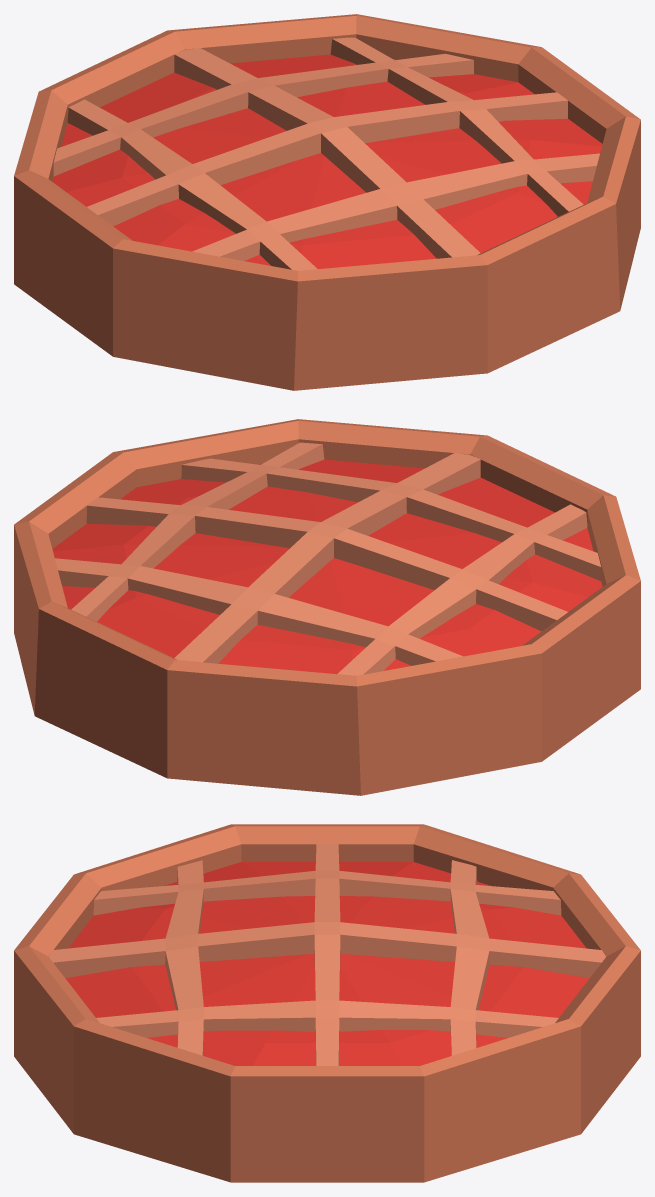
The model's file is SM_Food_Pie_03.fbx.
3 renders of one model, top to bottom at view 1: azimuth 30°, elevation 25°; view 2: azimuth 150°, elevation 25°; view 3: azimuth 270°, elevation 25°, orthographic. The views are drawn at different scales.
Parts seen in each view (by area): view 1: SM_Food_Pie_03; view 2: SM_Food_Pie_03; view 3: SM_Food_Pie_03.
Part boxes in pixels (box(x1,y1,x2,y2)): SM_Food_Pie_03: box(14, 14, 640, 390); SM_Food_Pie_03: box(14, 419, 640, 795); SM_Food_Pie_03: box(14, 824, 640, 1182).
Bounding box in the file's own units: 0.2567 × 0.0608 × 0.2699.
